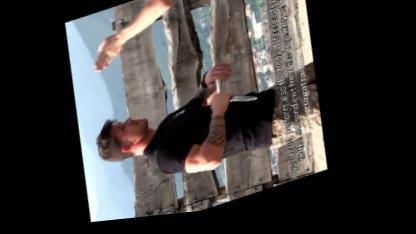knife: (208, 86, 264, 121)
